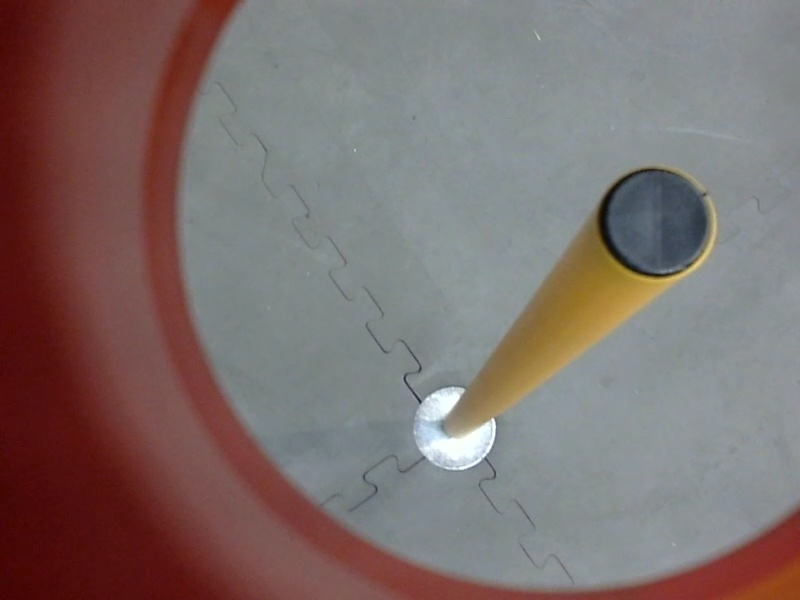tip: (590, 154, 725, 292)
